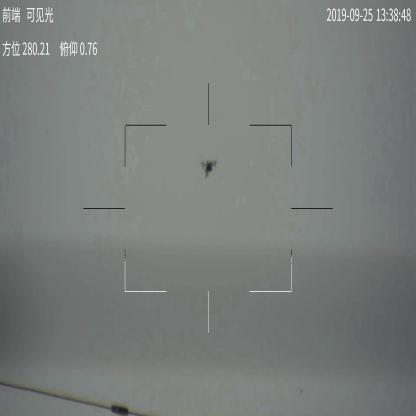uav: (201, 156, 218, 179)
